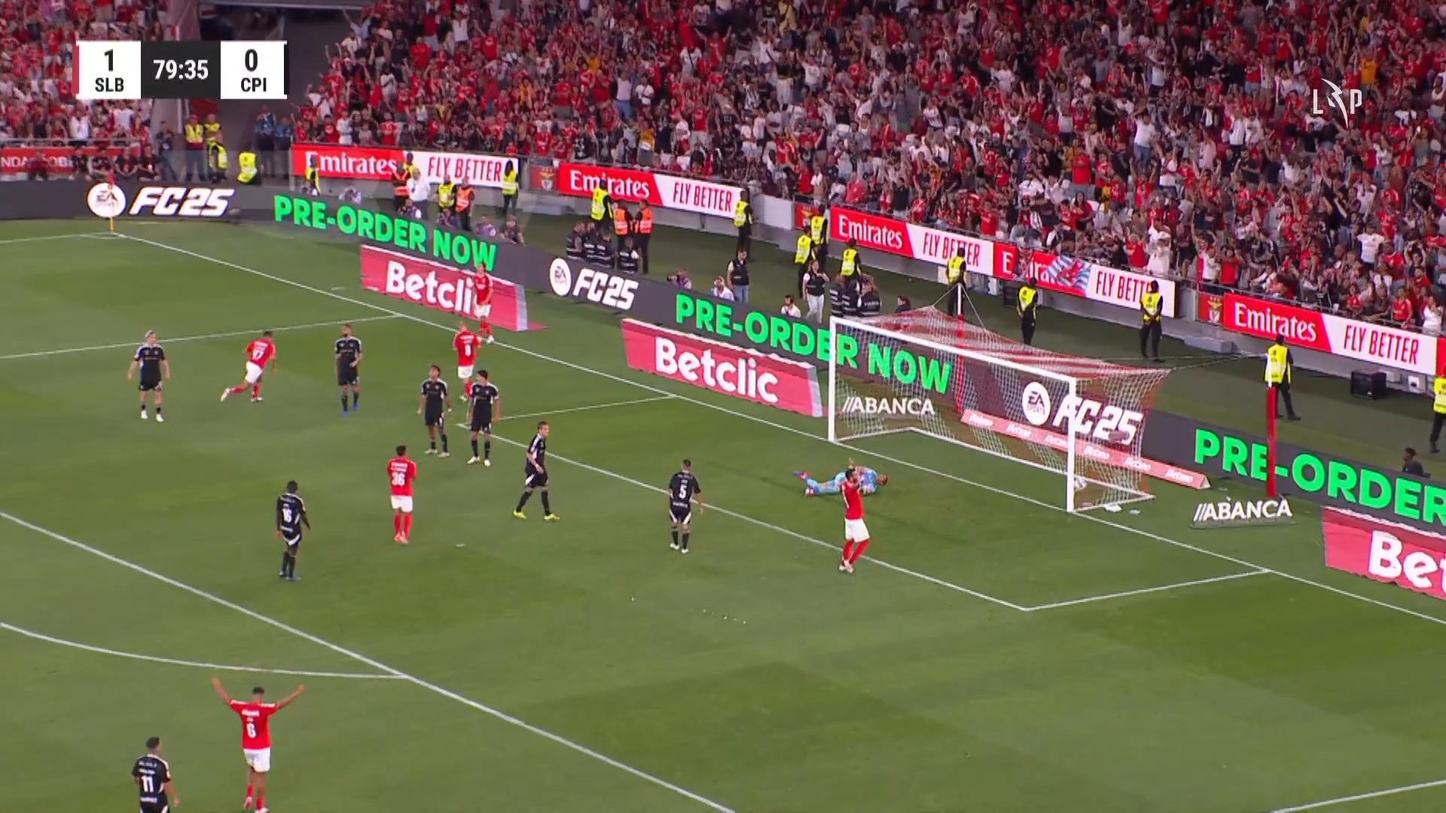ball: (1073, 474, 1090, 495)
goalkeeper: (792, 464, 888, 497)
player: (209, 674, 307, 811), (793, 461, 888, 574), (511, 420, 560, 520), (126, 328, 171, 422), (219, 329, 276, 403), (836, 464, 872, 574), (274, 479, 311, 580), (131, 735, 180, 811), (464, 368, 500, 467), (667, 458, 704, 553), (416, 364, 452, 457), (386, 444, 417, 544), (333, 323, 363, 416), (451, 318, 484, 402), (469, 261, 494, 343)
